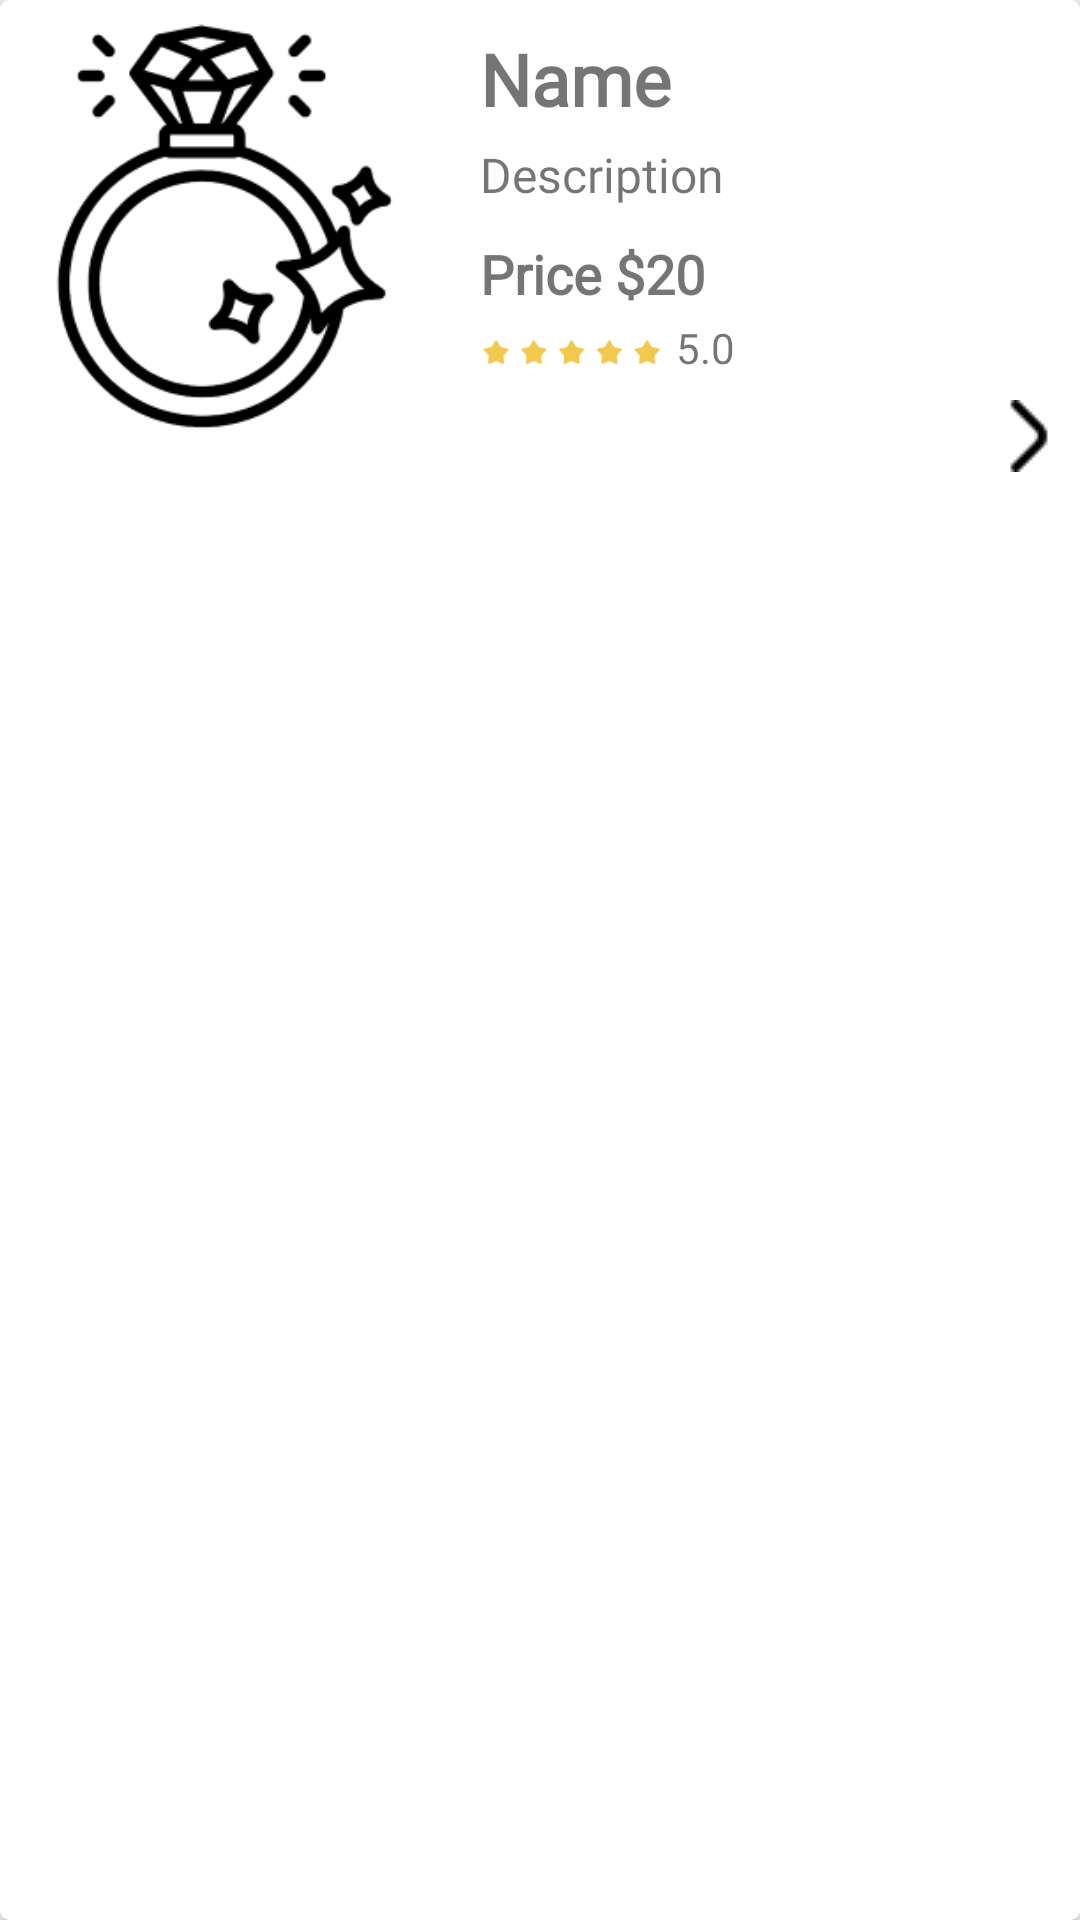

Named icons in this screenshot (1080*1920) and their bounding boxes, (x1, y1, x2, y2):
arrow: (1010, 400, 1048, 472)
